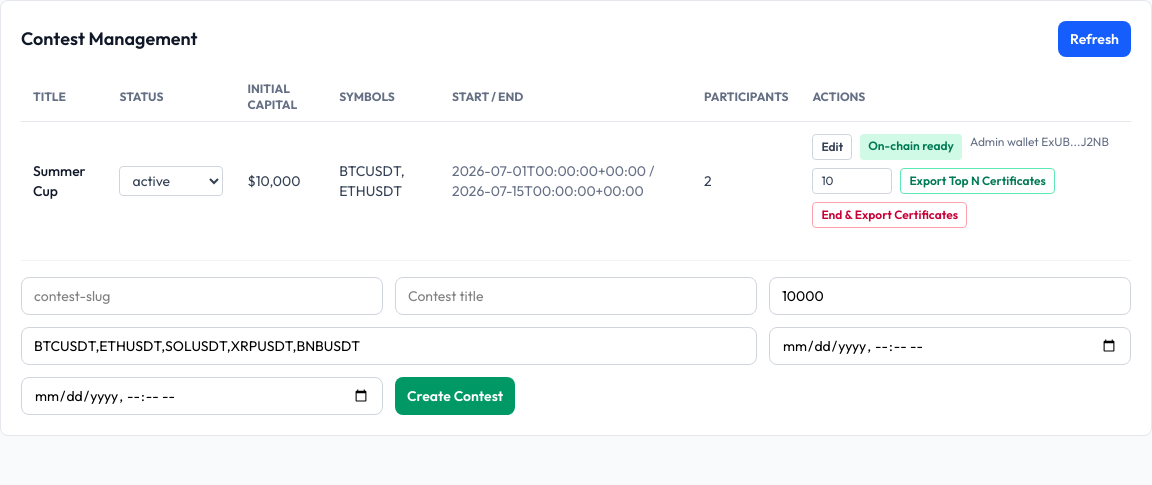
Test: TabContests › requires an active signer before ending and exporting a contest
Click the button with test id "end-export-summer-cup": x=890, y=215 [812, 202, 967, 228]
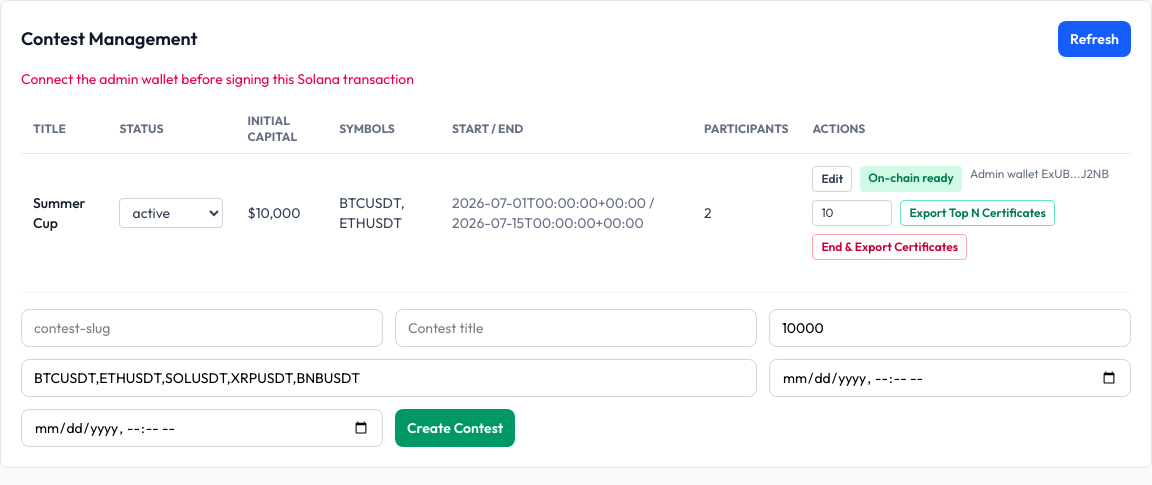
Expected: the text "Connect the admin wallet before signing this Solana transaction" is shown, [21, 70, 414, 88]
